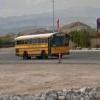Bus: (12, 31, 70, 62)
